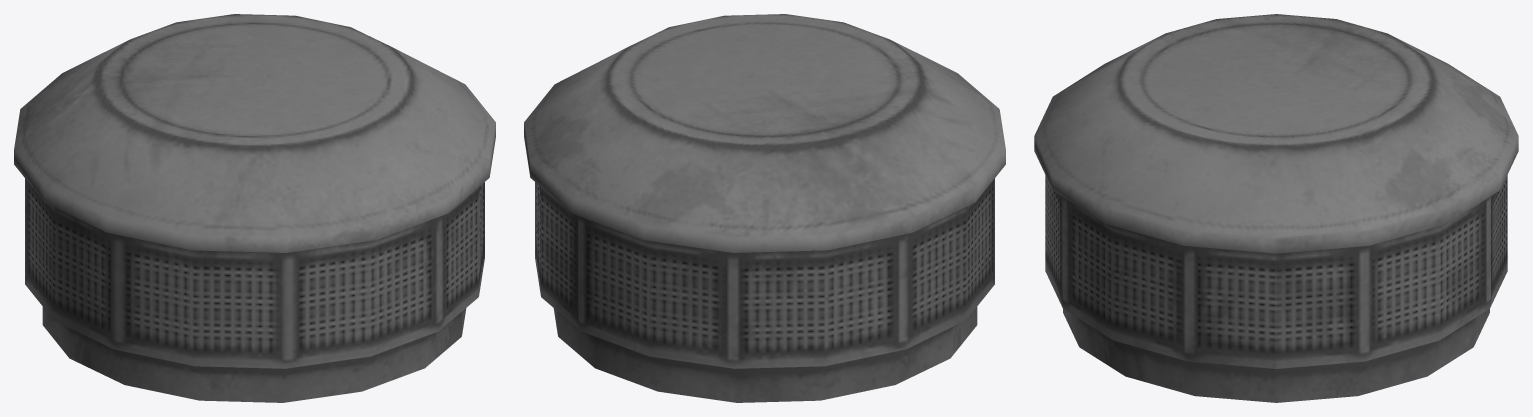
The model's file is CP_Ventilation_03.fbx.
The picture shows the model from 3 angles, left to right: view 1: azimuth 30°, elevation 25°; view 2: azimuth 150°, elevation 25°; view 3: azimuth 270°, elevation 25°; orthographic projection.
Visible parts, largest first — view 1: CP_Ventilation_03_LOD0; view 2: CP_Ventilation_03_LOD0; view 3: CP_Ventilation_03_LOD0.
Part boxes in pixels (bbox=[...]): CP_Ventilation_03_LOD0: bbox=[14, 14, 495, 402]; CP_Ventilation_03_LOD0: bbox=[524, 14, 1005, 402]; CP_Ventilation_03_LOD0: bbox=[1034, 14, 1518, 402].
Size of what is drawn, in the model's own units: 79.59 by 42.15 by 79.59.
